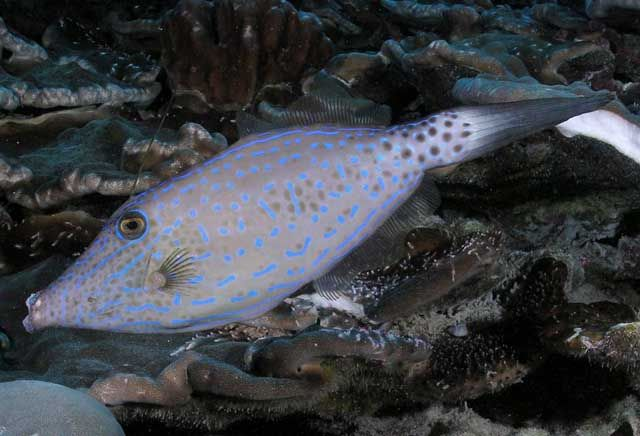fish: (23, 99, 612, 335)
